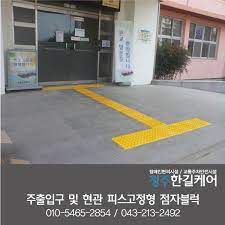guide_blocks: (84, 90, 163, 127), (109, 118, 209, 147), (44, 85, 105, 92)
